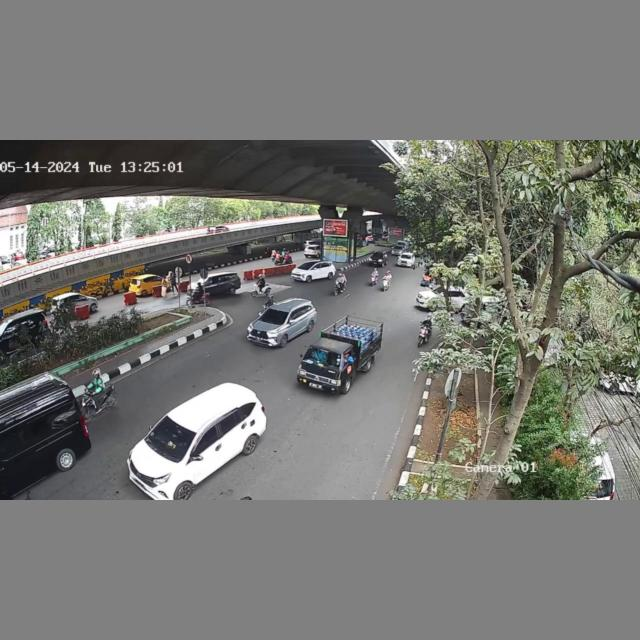windshield: (145, 417, 197, 457), (306, 346, 341, 370), (255, 307, 289, 326)
